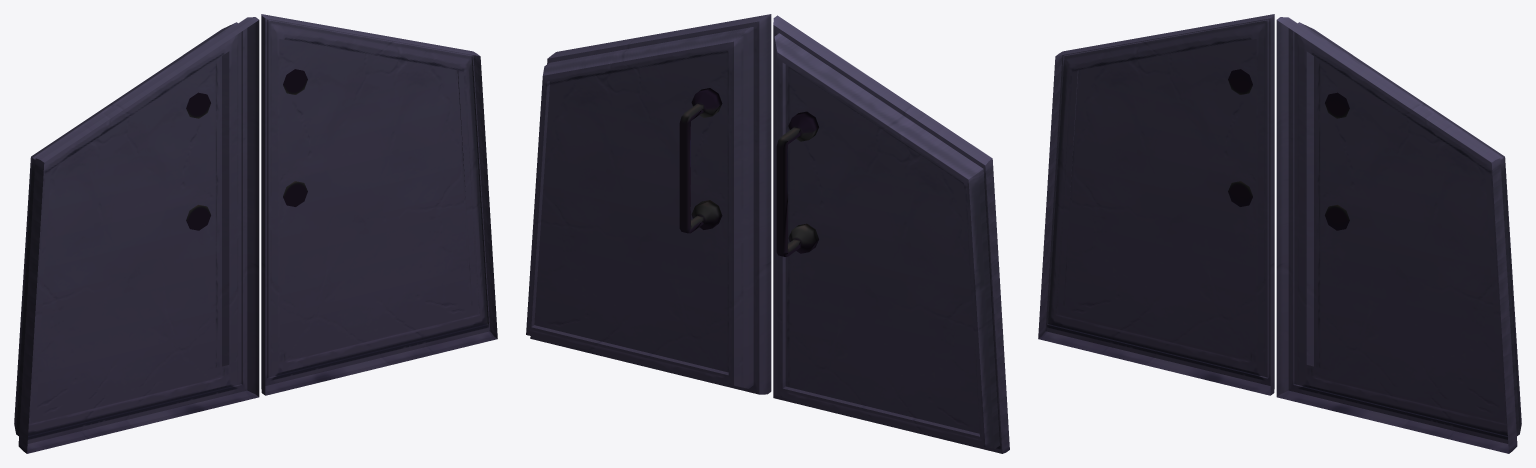
The model's file is MOD_DoubleCabinClose_Block.fbx.
The picture shows the model from 3 angles, left to right: view 1: azimuth 30°, elevation 25°; view 2: azimuth 150°, elevation 25°; view 3: azimuth 330°, elevation 25°; orthographic projection.
Visible parts, largest first — view 1: MOD_DoubleCabinClose_Block; view 2: MOD_DoubleCabinClose_Block; view 3: MOD_DoubleCabinClose_Block.
Boxes of the visible parts, bbox=[...] form: MOD_DoubleCabinClose_Block: bbox=[14, 14, 497, 453]; MOD_DoubleCabinClose_Block: bbox=[526, 14, 1009, 453]; MOD_DoubleCabinClose_Block: bbox=[1038, 14, 1521, 453].
Bounding box in the file's own units: 73.81 × 56.42 × 11.69.
1 material, 1 textured.
